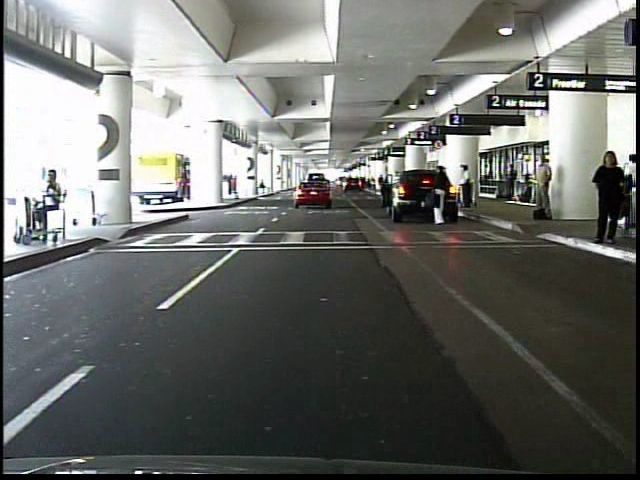person: (590, 148, 627, 247), (18, 165, 65, 241), (615, 153, 638, 219), (433, 164, 450, 226), (457, 164, 473, 211), (507, 162, 519, 201)
